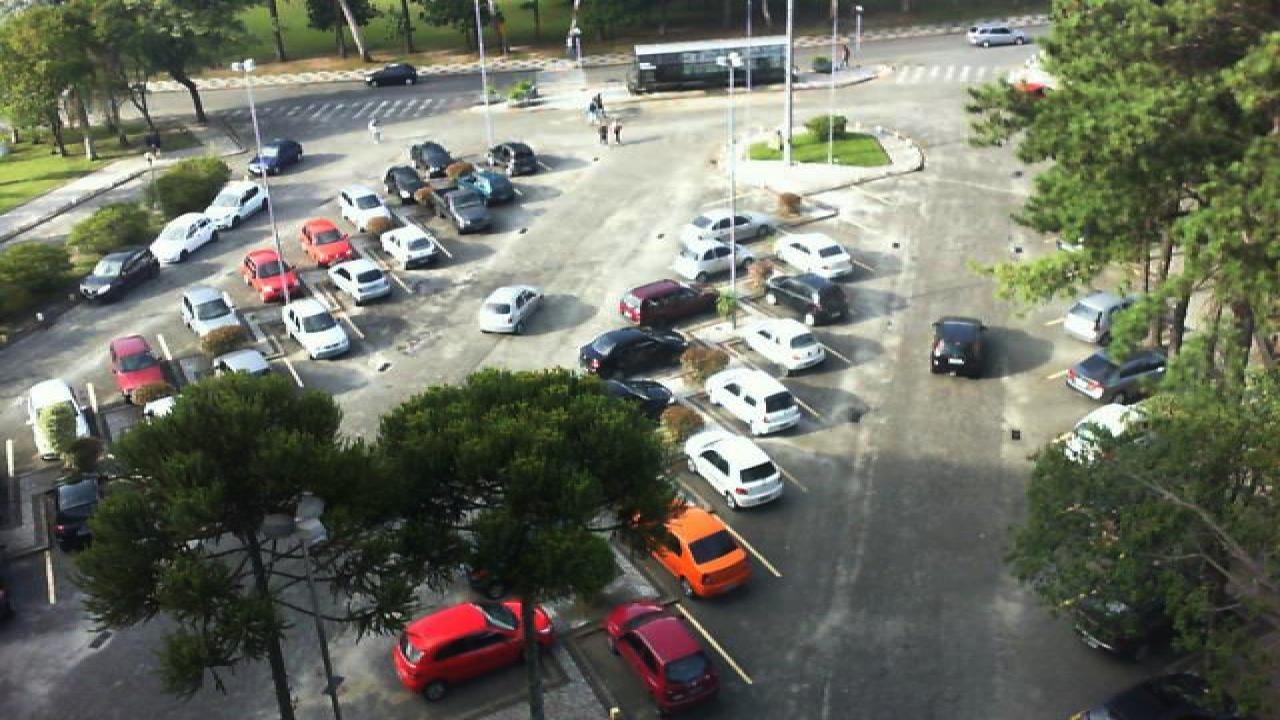Car: (392, 598, 556, 698), (604, 600, 722, 713), (638, 500, 754, 600), (680, 428, 786, 510), (704, 367, 804, 435), (578, 325, 690, 379), (1064, 350, 1166, 405), (736, 318, 830, 373), (48, 470, 108, 556), (26, 380, 86, 462), (618, 278, 722, 325), (766, 272, 850, 328), (108, 334, 178, 401), (282, 298, 352, 359), (1062, 288, 1136, 345), (78, 250, 158, 302), (776, 232, 854, 280), (200, 179, 268, 234), (930, 315, 990, 377), (242, 248, 306, 304), (148, 212, 216, 264), (326, 256, 396, 306), (180, 287, 244, 341), (478, 285, 546, 335), (674, 240, 746, 286), (688, 211, 780, 246), (376, 223, 444, 270), (298, 217, 358, 267), (432, 186, 492, 234), (596, 376, 672, 413), (206, 346, 274, 386), (338, 186, 396, 232), (246, 137, 304, 178), (466, 164, 518, 207), (382, 162, 434, 204), (408, 140, 454, 178), (494, 140, 542, 176)
